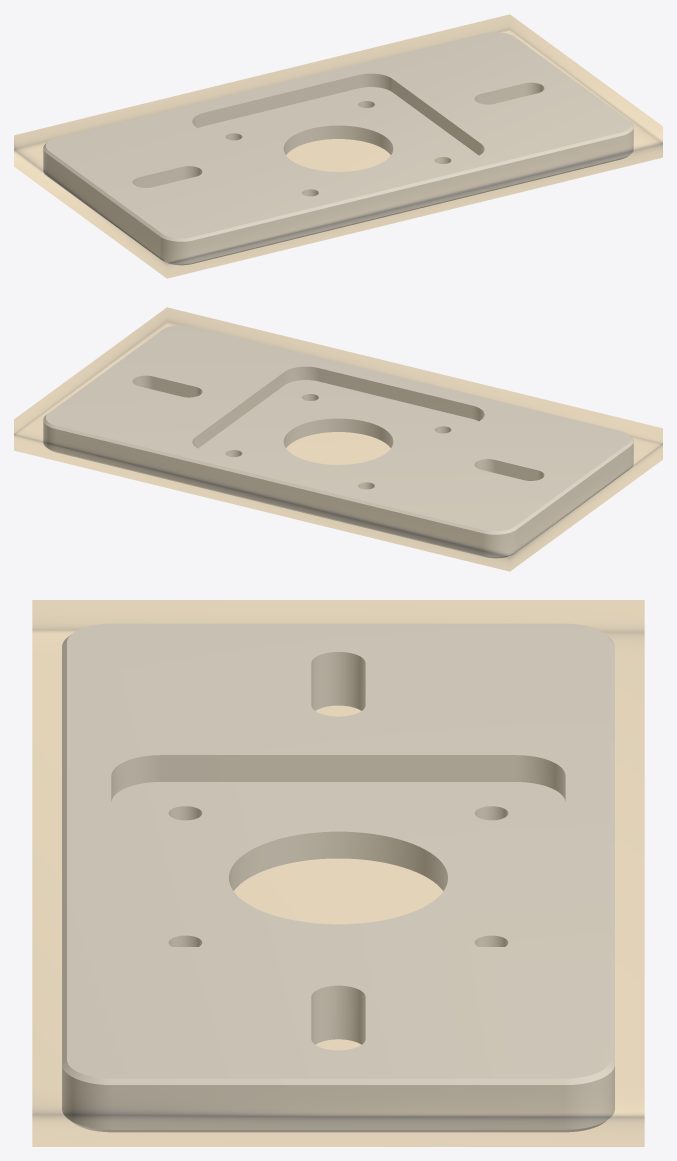
File: result.glb
3 views of the same model, one above another, from view 1: azimuth 30°, elevation 25°; view 2: azimuth 150°, elevation 25°; view 3: azimuth 270°, elevation 25° (orthographic). The views are drawn at different scales.
Parts seen in each view (by area): view 1: stock, part; view 2: stock, part; view 3: stock, part.
Boxes of the visible parts, x1,y1,x2,y2 form: stock: (14, 14, 662, 278); part: (43, 32, 633, 265); stock: (14, 307, 662, 571); part: (43, 325, 633, 558); stock: (32, 600, 644, 1146); part: (62, 623, 614, 1132).
Size of the model in its own units: 0.116 by 0.007 by 0.062.
